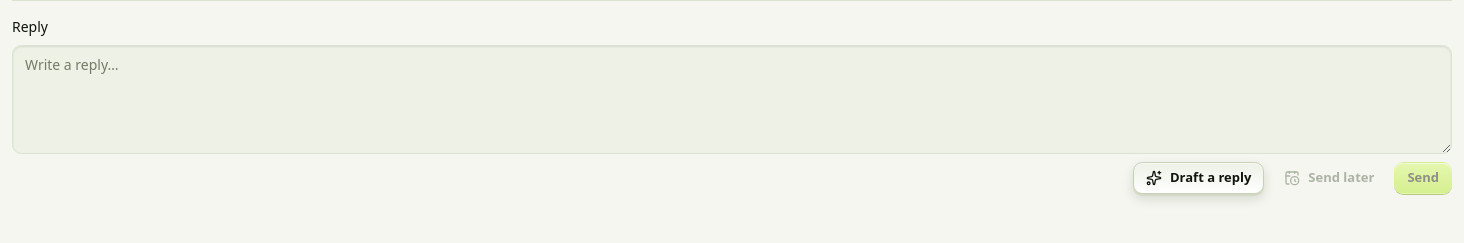
it: sending a reply schedules it, clears the textarea, and shows a queued status
The width and height of the screenshot is (1464, 243).
In the text box labelled "Reply": [732, 100] box [12,45,1452,154], type "Thanks for getting back to me!"
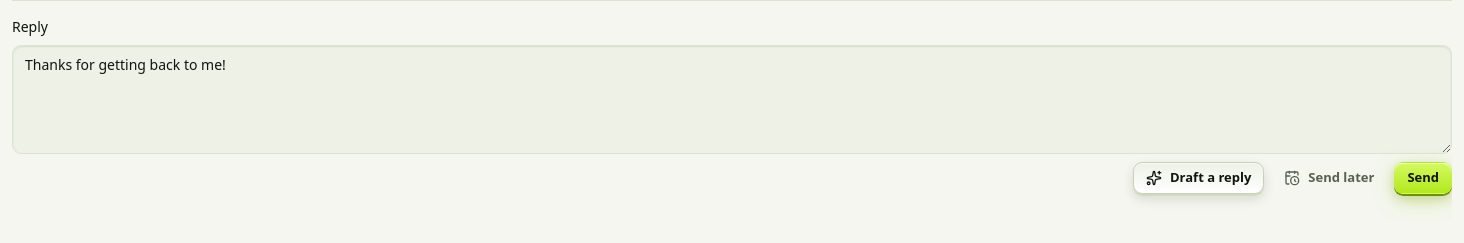
Click the button "Send": [1423, 178] box [1394,162,1452,194]
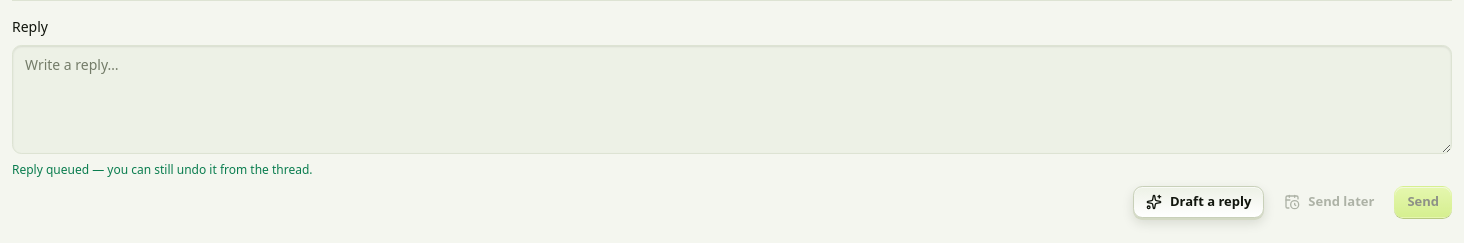
expect the message shows "Reply queued — you can still undo it": met, box [12,161,312,178]
expect the text box labelled "Reply" is empty: met, box [12,45,1452,154]
